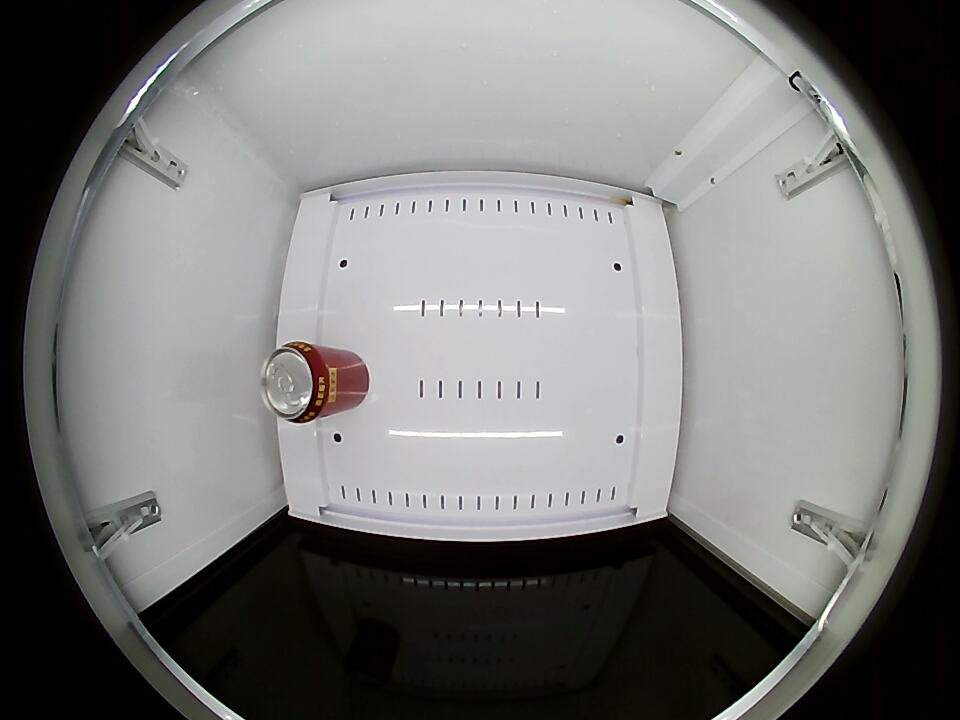wanglaoji-c: (261, 341, 335, 423)
